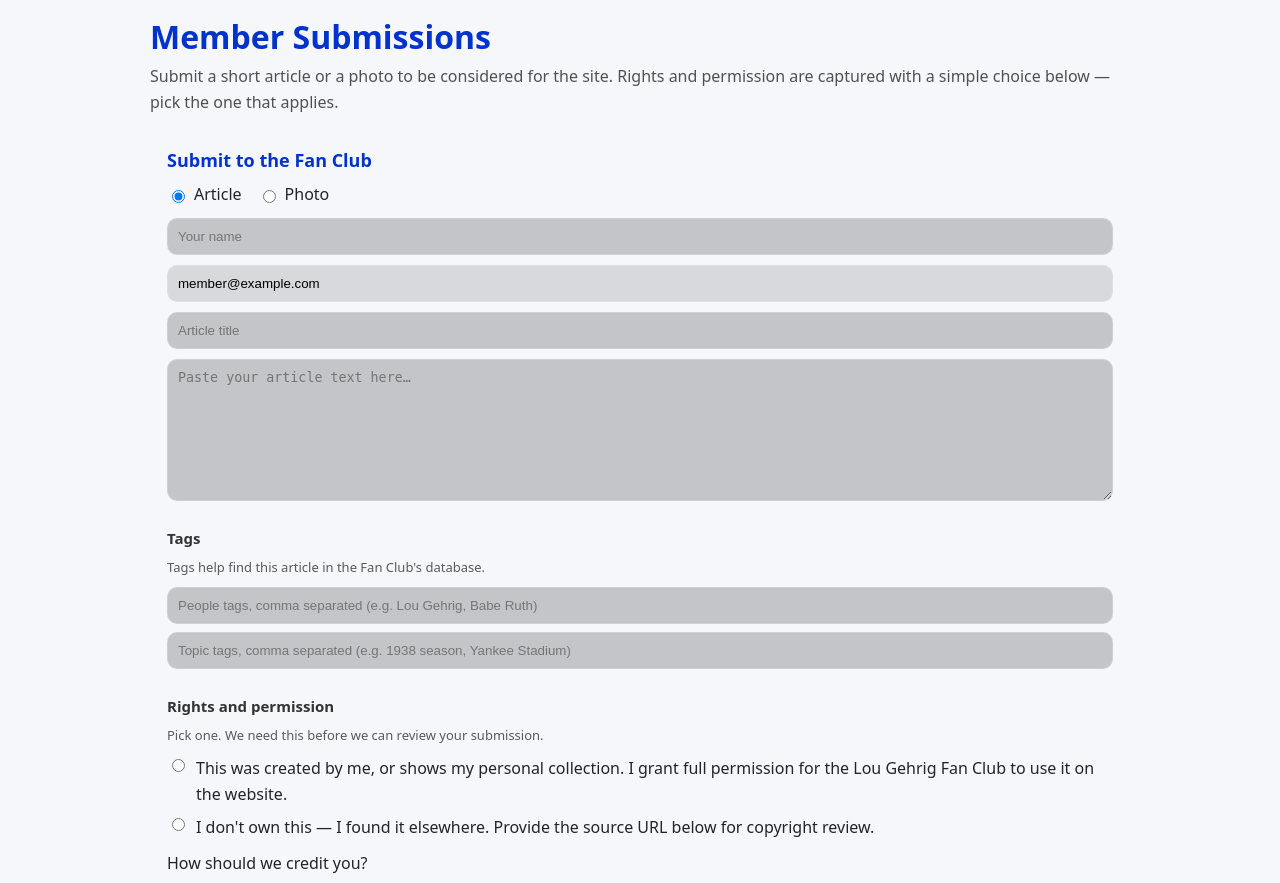
Fan Club operational pages › requires a source_url before an article with the external-source choice can submit
Type "Casey Member" into the field with placeholder "Your name" at (640, 236), box [167,218,1113,255]
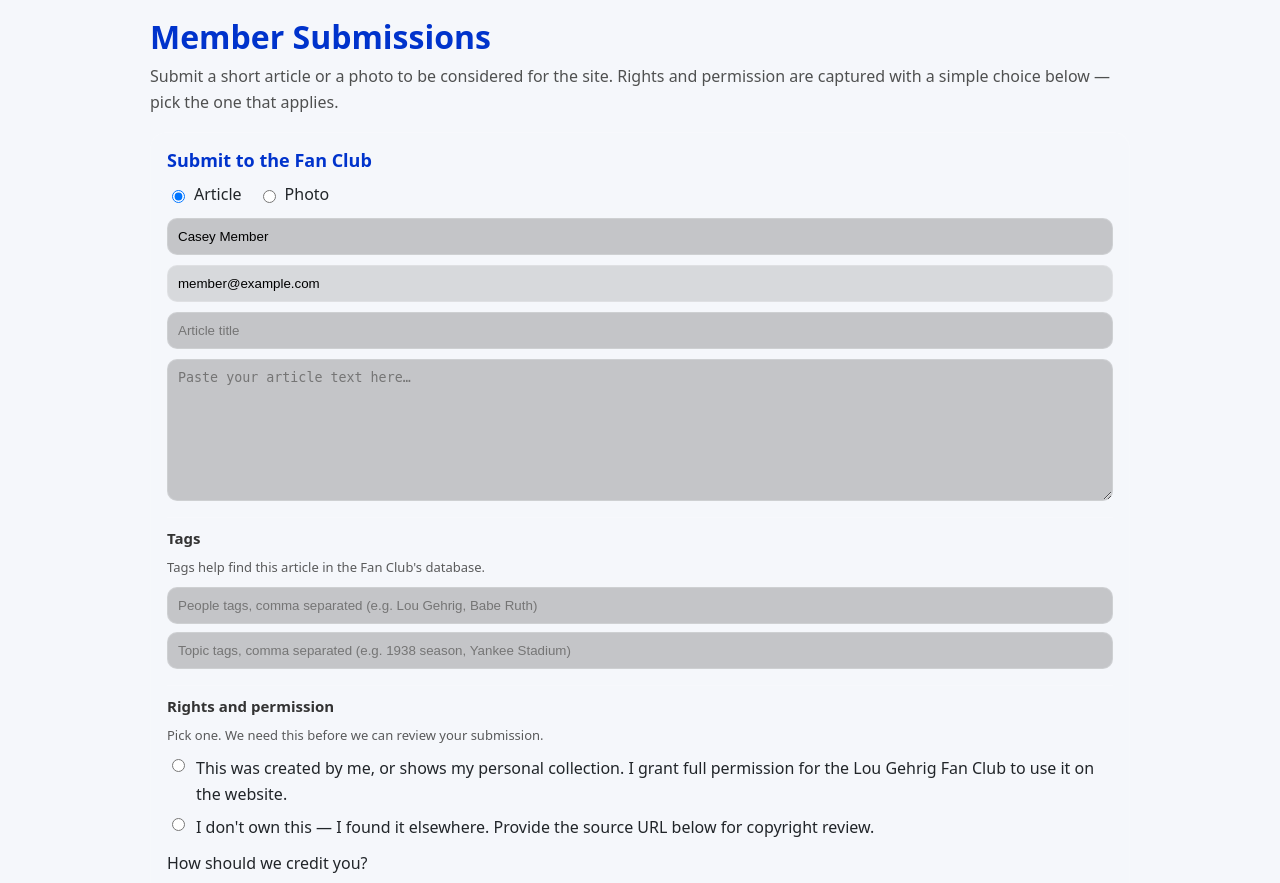
Type "Club memory" into the field with placeholder "Article title" at (640, 330), box [167,312,1113,349]
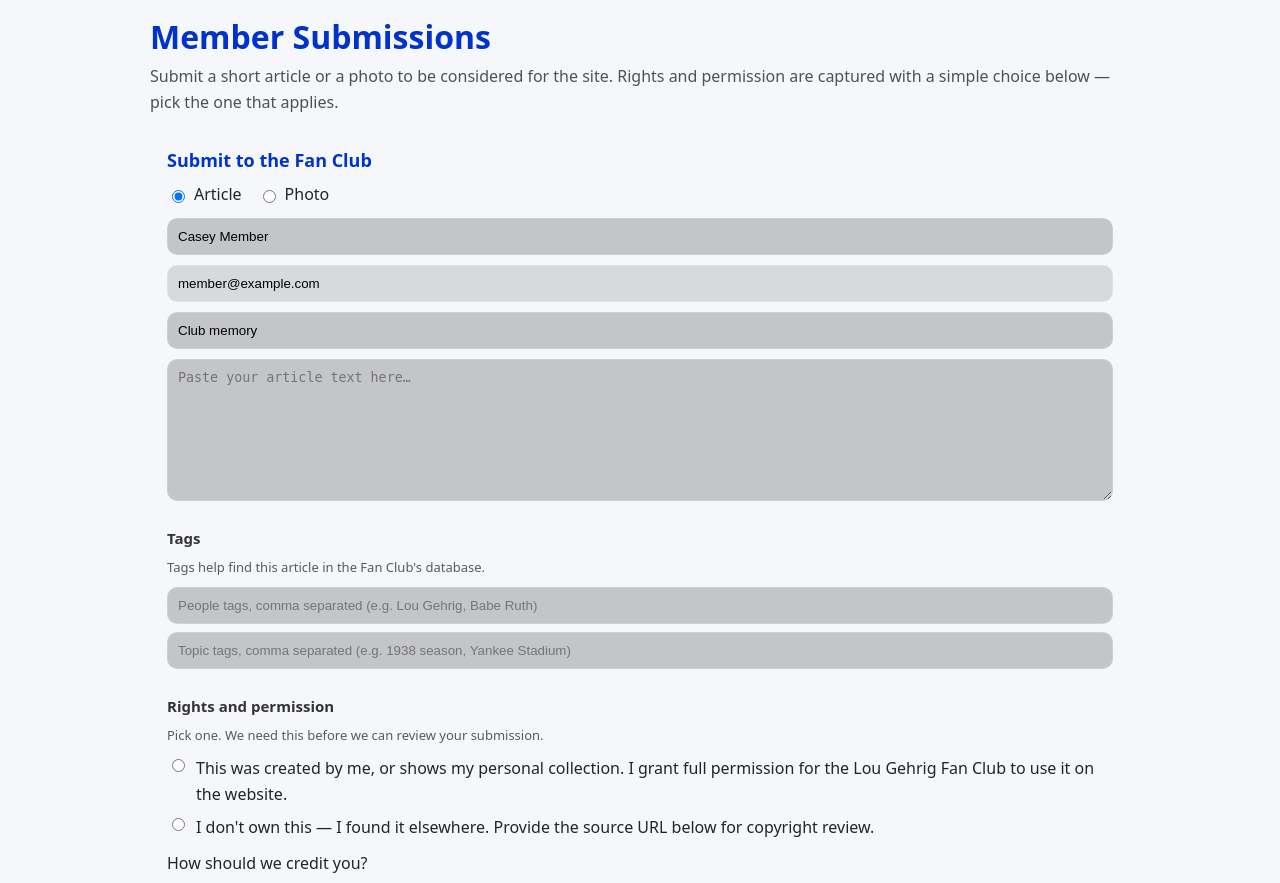
Type "This is a long enough member submission for review." into the text box with placeholder "Paste your article text here…" at (640, 430), box [167,359,1113,501]
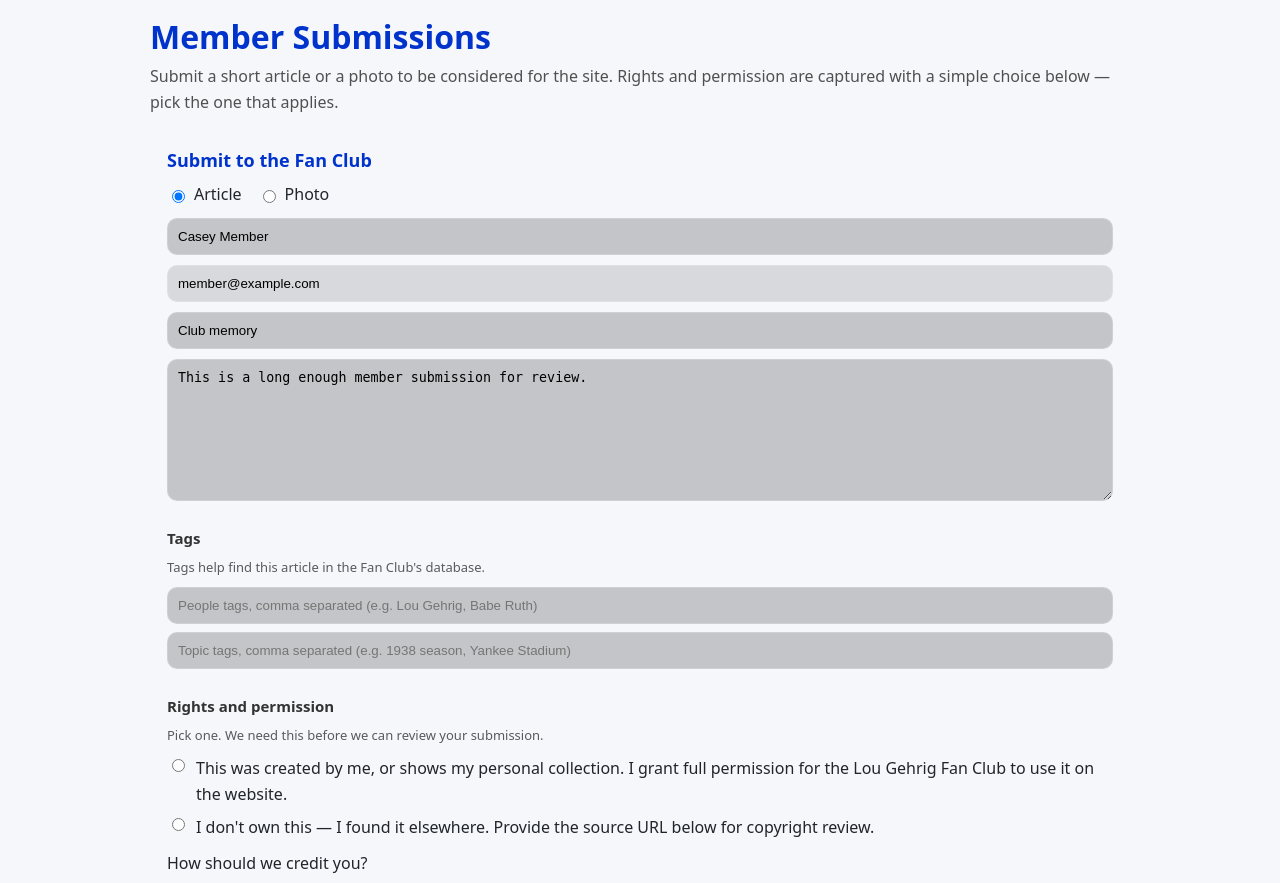
Click the text "I don.t own this" at (535, 828), box [196,815,874,841]
(page scrolled)
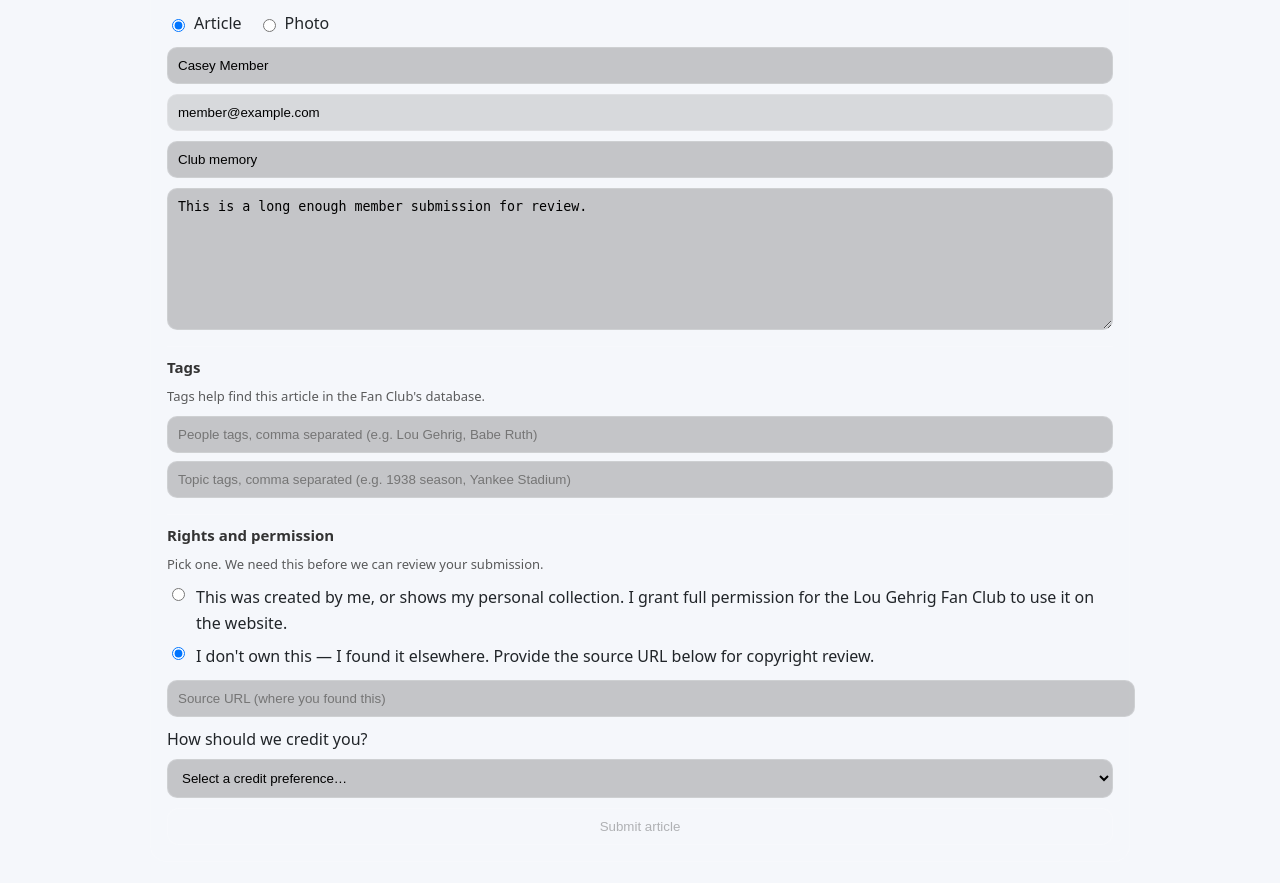
Select "Credit me by name" in the dropdown at (640, 778), box [167,758,1113,798]
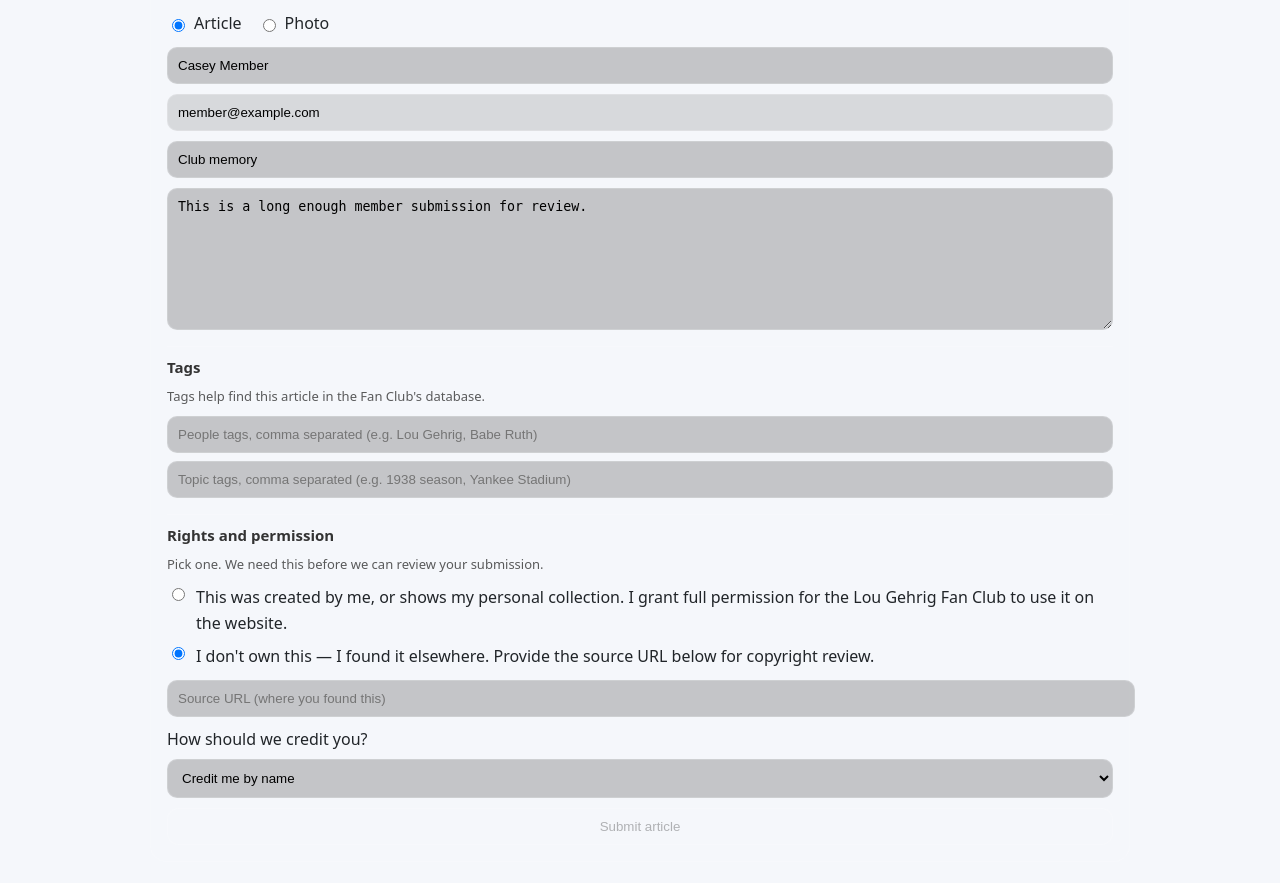
Expected: the button "Submit article" is disabled, [167,808,1113,844]
Type "https://commons.wikimedia.org/wiki/File:Example.jpg" into the field with placeholder "Source URL (where you found this)" at (651, 698), box [167,680,1135,717]
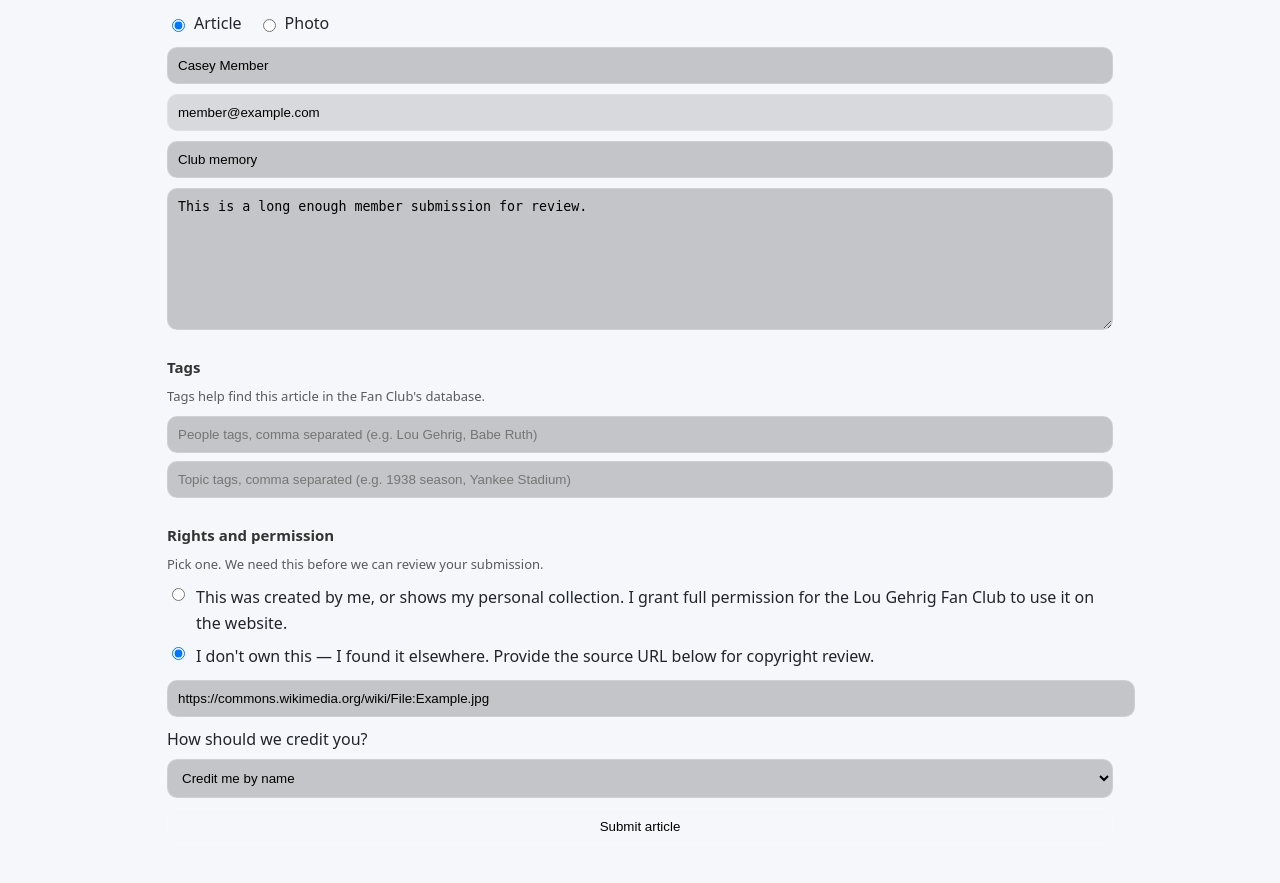
Expected: the button "Submit article" is enabled, [167,808,1113,844]
